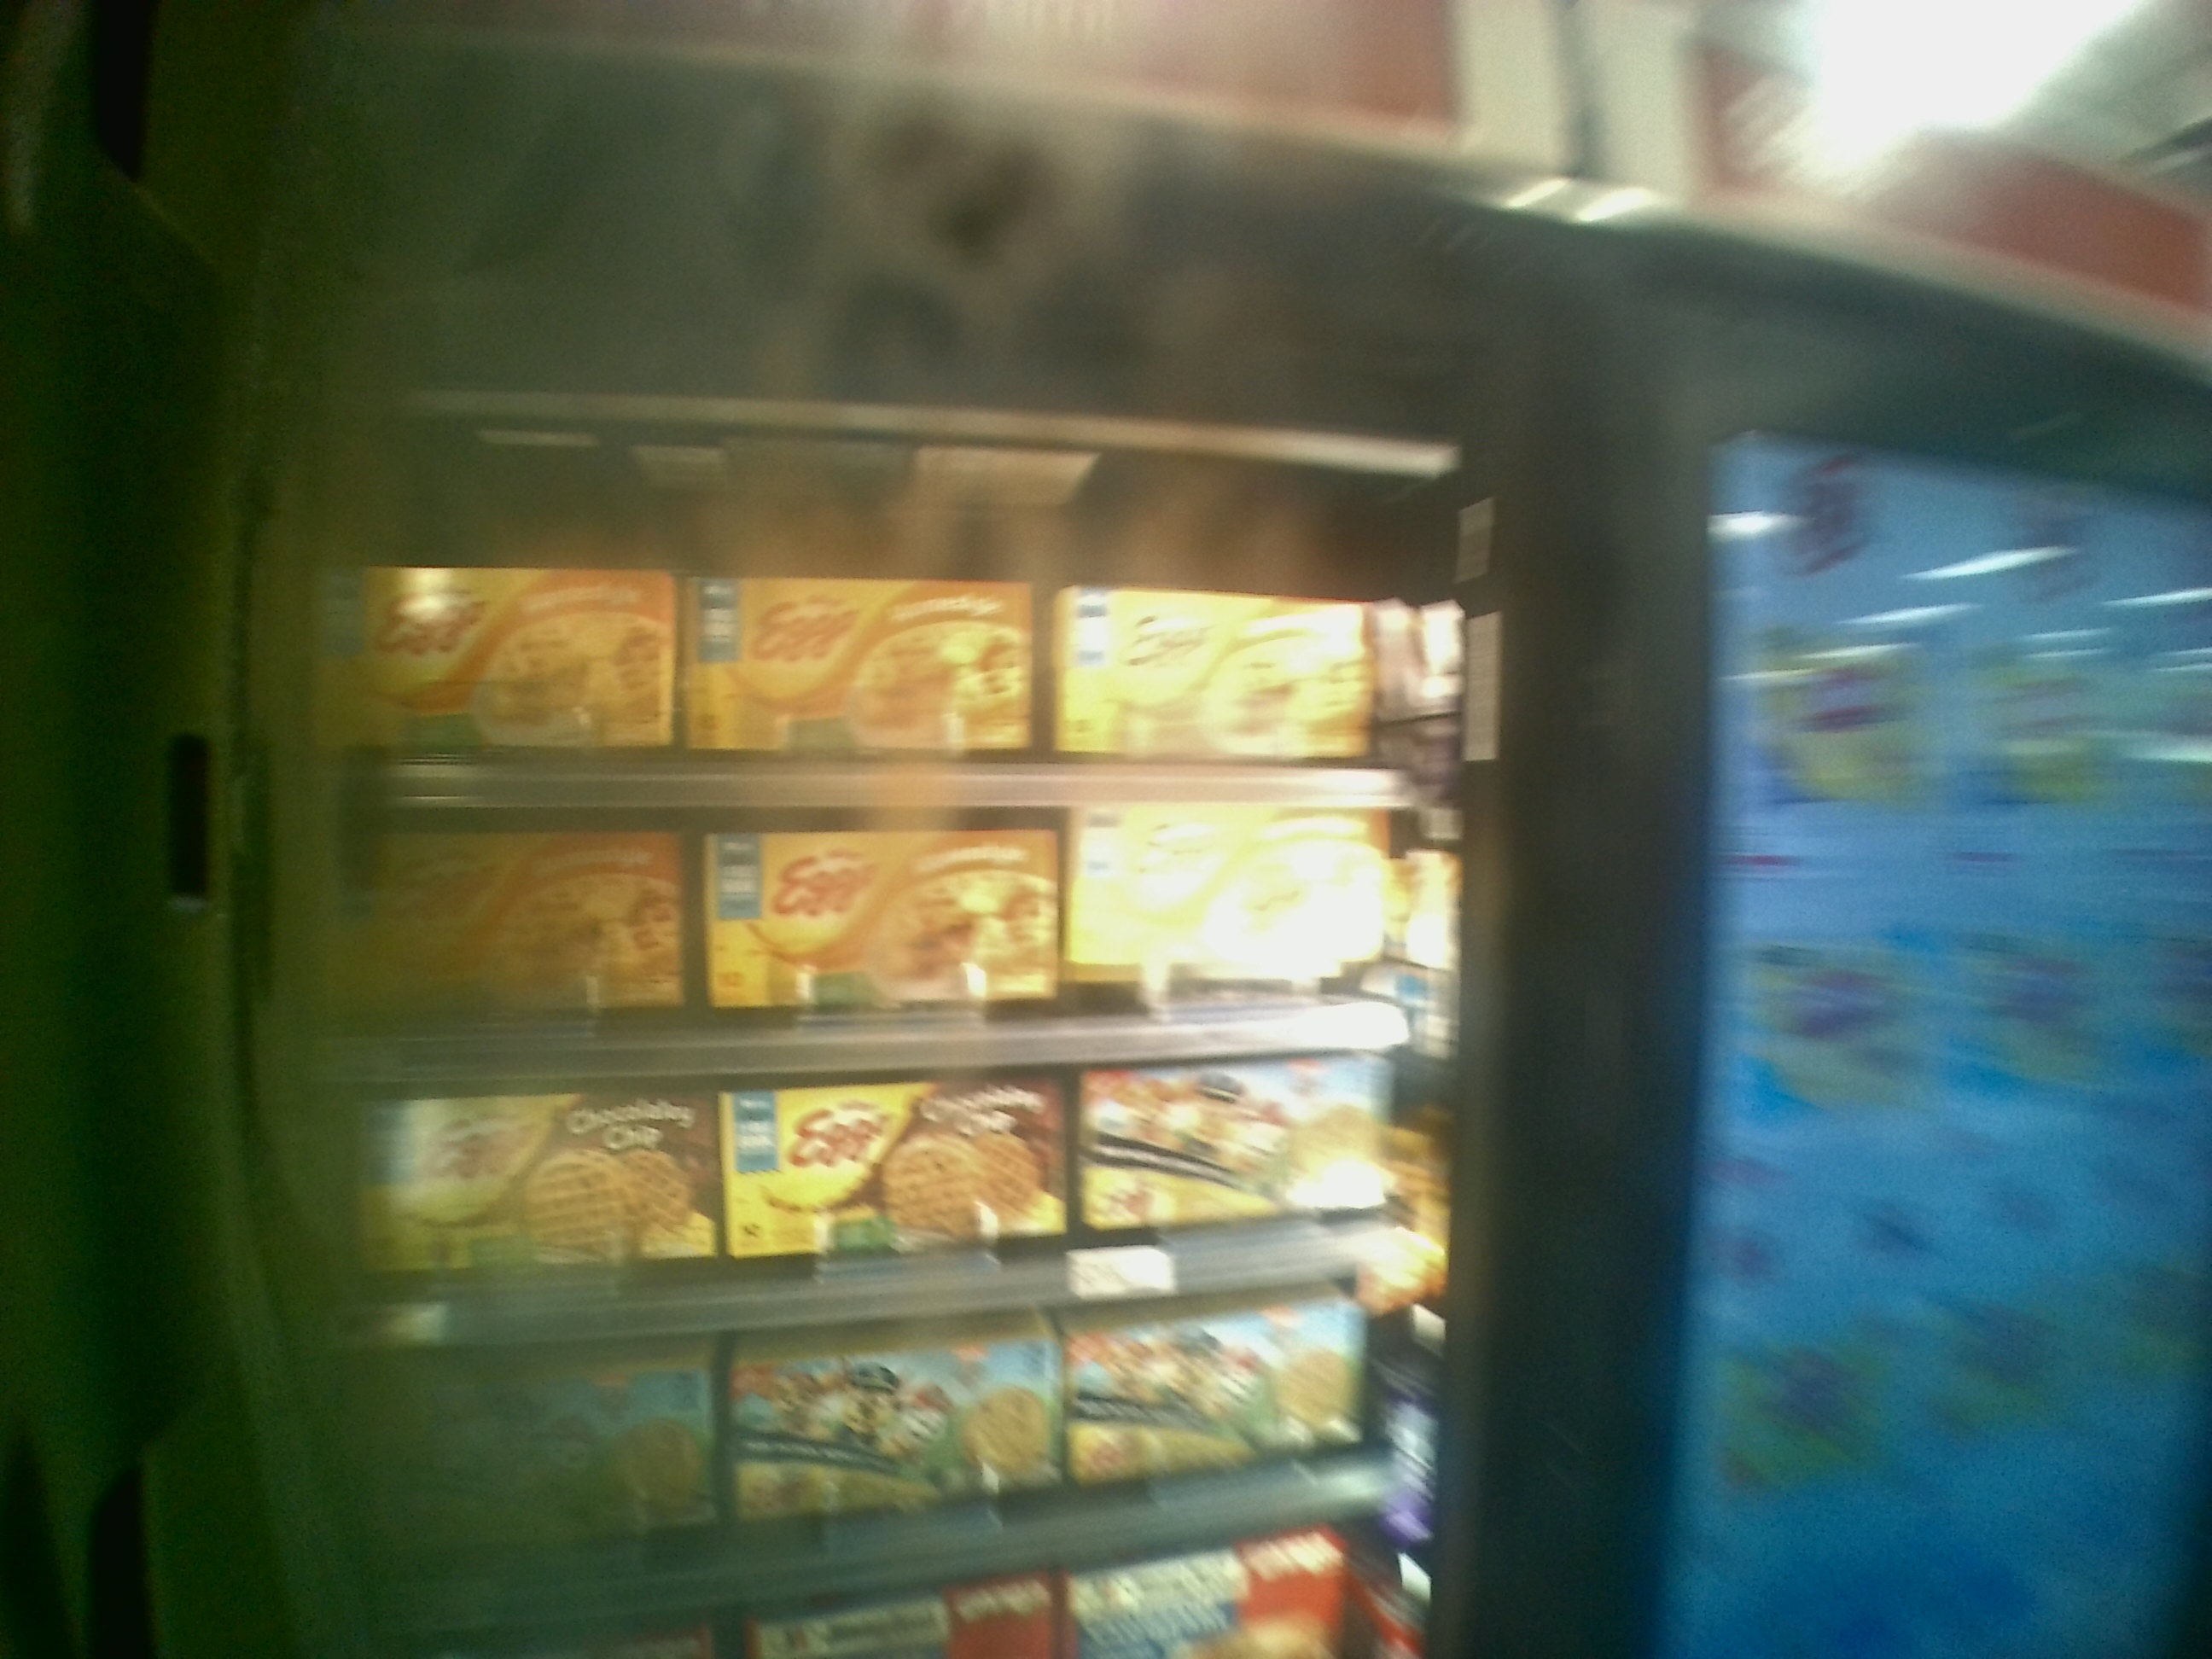shelf: (315, 450, 1440, 803), (320, 1033, 1447, 1361), (314, 803, 1468, 1087)
